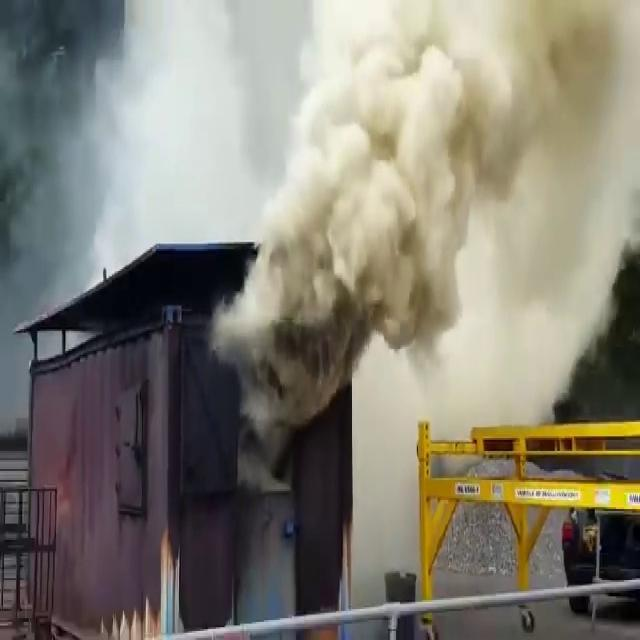Smoke: (256, 0, 639, 356)
